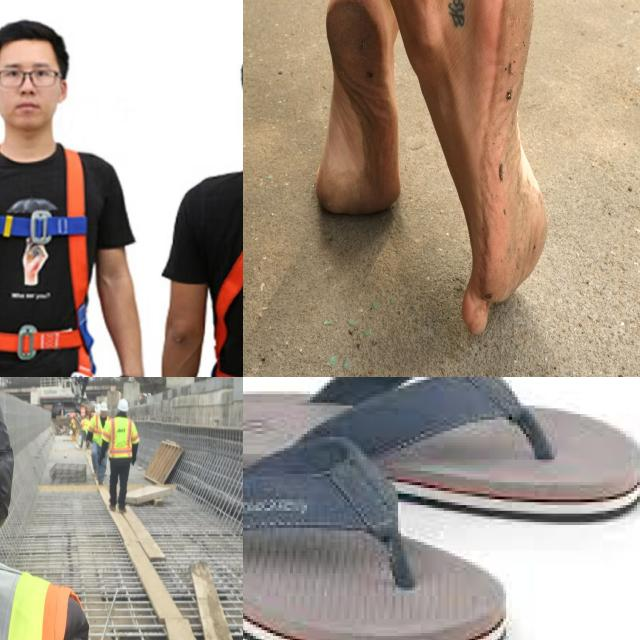Barefoots: (458, 0, 548, 336), (315, 0, 400, 217)
Harness: (0, 142, 101, 377)
Sandals: (243, 377, 640, 640)
head_helmet: (116, 398, 132, 414), (100, 401, 107, 414)
person: (0, 377, 131, 640), (109, 396, 142, 511), (90, 395, 109, 482)
vest: (108, 418, 143, 461), (89, 415, 111, 444)
